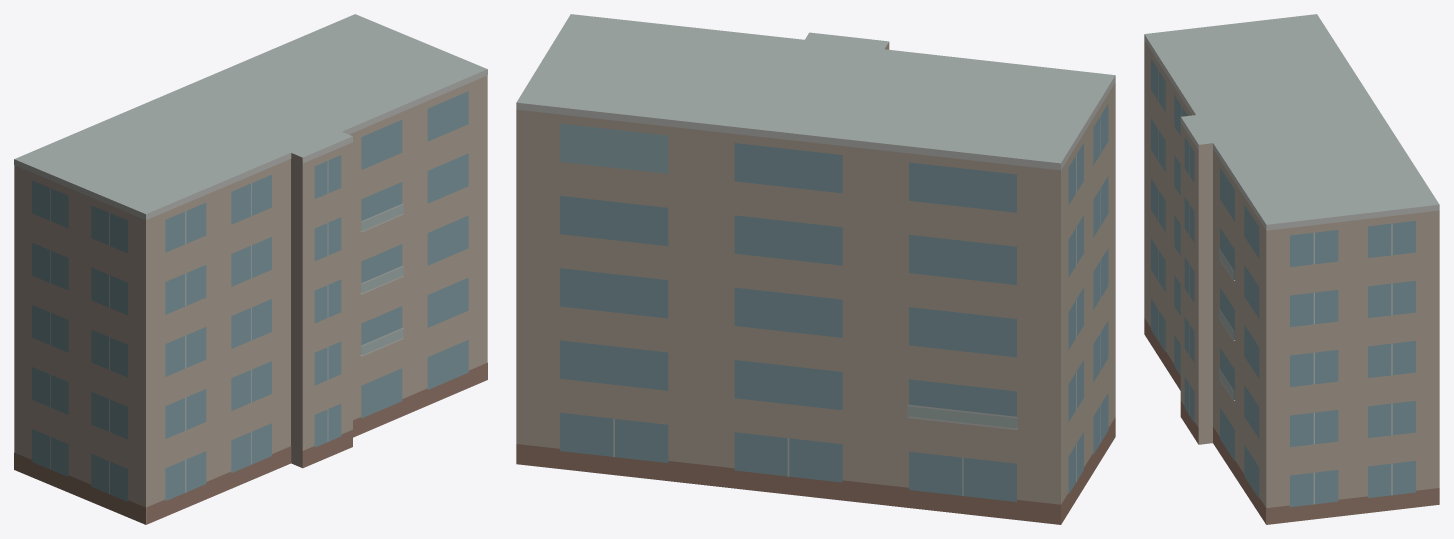
Rendered from survey-upis-32981001.glb.
3 views of the same model, side by side, from view 1: azimuth 30°, elevation 25°; view 2: azimuth 150°, elevation 25°; view 3: azimuth 270°, elevation 25° (orthographic). The views are drawn at different scales.
Visible parts, largest first — view 1: survey-upis-32981001.tmp; view 2: survey-upis-32981001.tmp; view 3: survey-upis-32981001.tmp.
Boxes of the visible parts, x1,y1,x2,y2 form: survey-upis-32981001.tmp: (14,14,487,524); survey-upis-32981001.tmp: (516,14,1115,524); survey-upis-32981001.tmp: (1144,14,1439,524).
Bounding box in the file's own units: 19.15 × 12.7 × 11.34.
